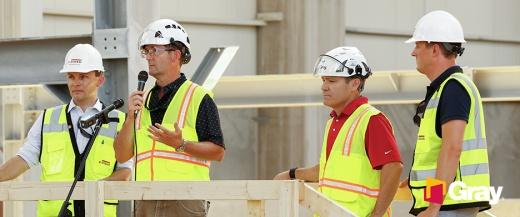helmet: (407, 12, 466, 46), (318, 47, 373, 79), (138, 20, 191, 47), (61, 44, 105, 74)
